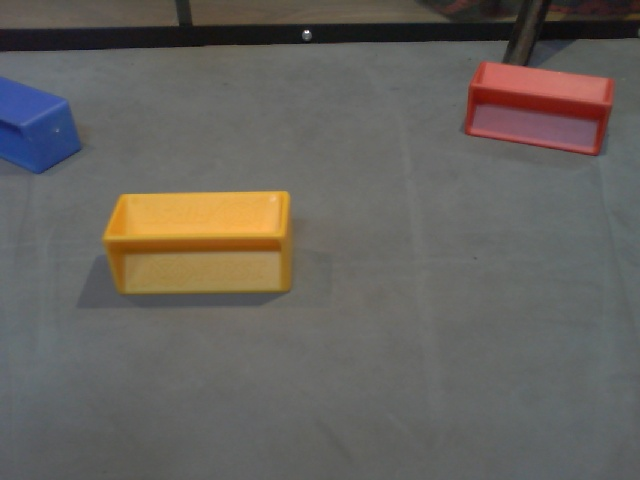BlueSample: (1, 72, 85, 182)
RedSample: (458, 54, 616, 160)
YellowSample: (98, 187, 297, 303)
